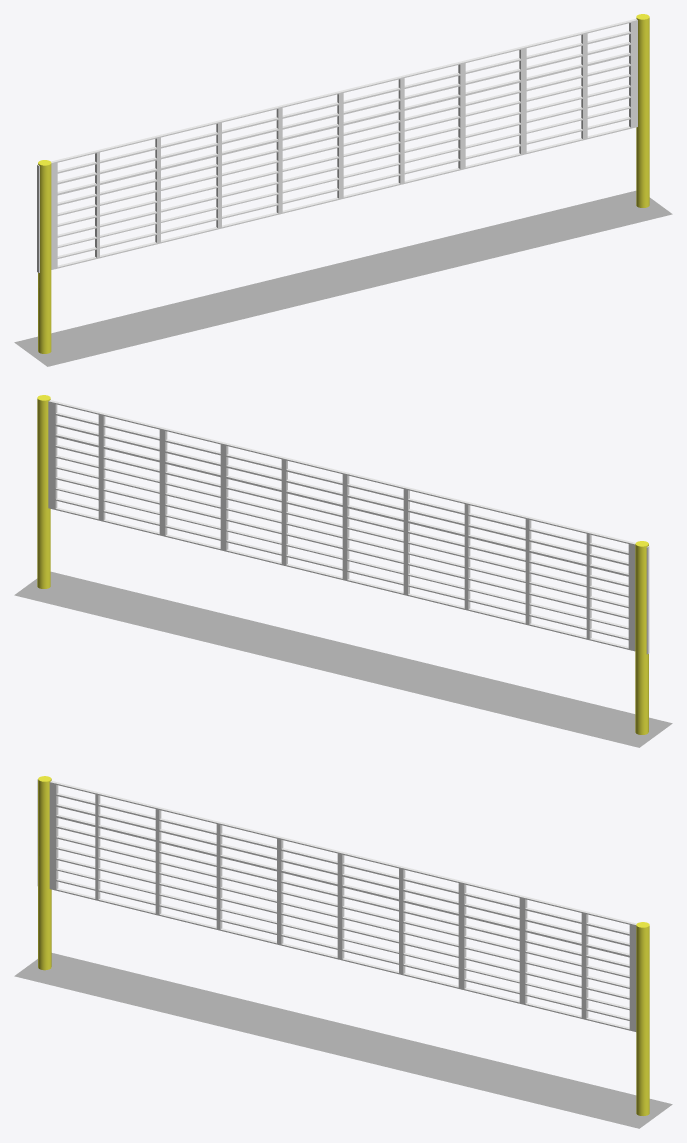
Rendered from NET.glb.
3 renders of one model, top to bottom at view 1: azimuth 30°, elevation 25°; view 2: azimuth 150°, elevation 25°; view 3: azimuth 330°, elevation 25°, orthographic.
Visible parts, largest first — view 1: pPlane2, pPlane1, pCylinder1, pCylinder2; view 2: pPlane2, pPlane1, pCylinder1, pCylinder2; view 3: pPlane2, pPlane1, pCylinder2, pCylinder1.
Boxes of the visible parts, left/top/right/bottom form: pPlane2: left=37, top=18, right=637, bottom=272; pPlane1: left=14, top=190, right=672, bottom=366; pCylinder1: left=38, top=160, right=51, bottom=353; pCylinder2: left=636, top=14, right=649, bottom=207; pPlane2: left=48, top=400, right=649, bottom=654; pPlane1: left=14, top=571, right=672, bottom=747; pCylinder1: left=635, top=541, right=648, bottom=734; pCylinder2: left=37, top=395, right=50, bottom=588; pPlane2: left=37, top=779, right=636, bottom=1031; pPlane1: left=14, top=953, right=672, bottom=1128; pCylinder2: left=636, top=922, right=649, bottom=1115; pCylinder1: left=38, top=776, right=51, bottom=970.
Bounding box in the file's own units: 8.5 × 2.45 × 0.7897.
